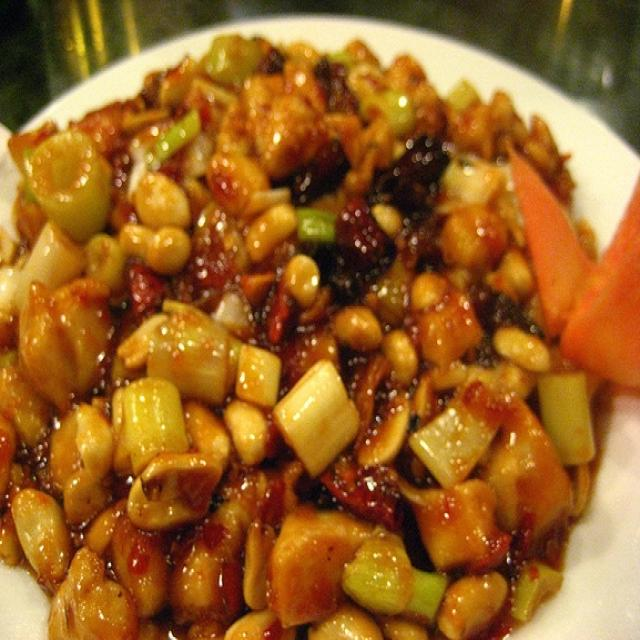鸡肉料理 含炸鸡: (16, 28, 624, 634)
